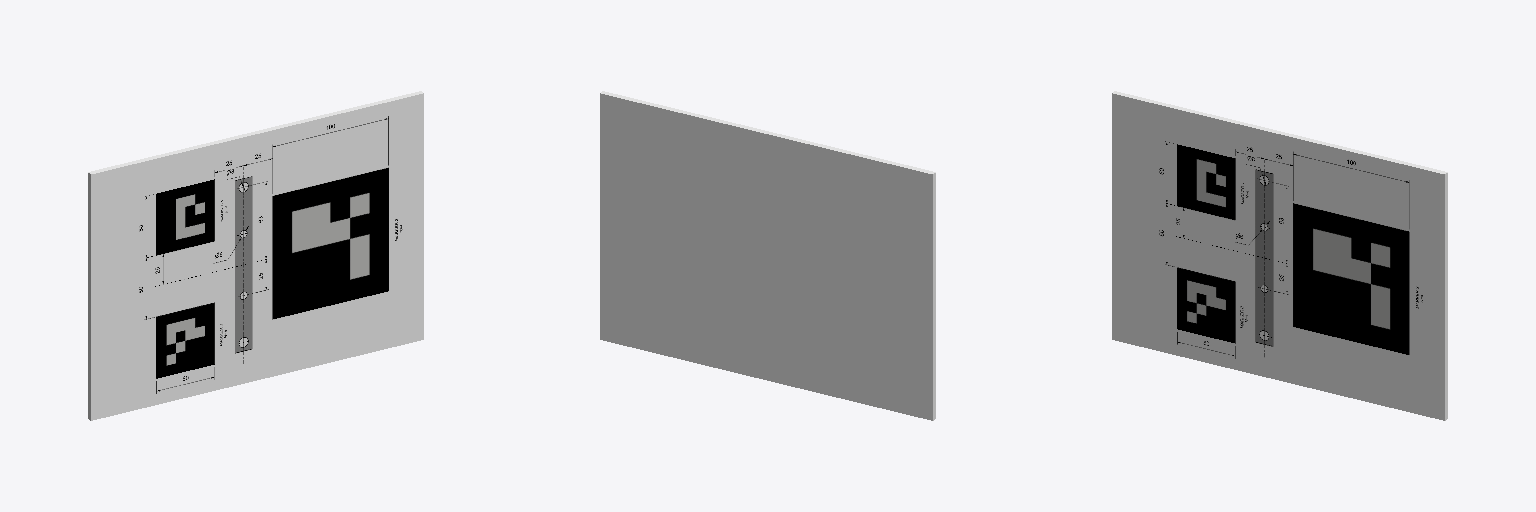
3 renders of one model, left to right at view 1: azimuth 30°, elevation 25°; view 2: azimuth 150°, elevation 25°; view 3: azimuth 330°, elevation 25°, orthographic.
Parts seen in each view (by area): view 1: Mesh; view 2: Mesh; view 3: Mesh.
Part boxes in pixels (left/top/right/bottom): Mesh: left=88, top=91, right=423, bottom=420; Mesh: left=600, top=91, right=935, bottom=420; Mesh: left=1112, top=91, right=1447, bottom=420.
Bounding box in the file's own units: 0.297 × 0.21 × 0.005.
2 materials, 1 textured.